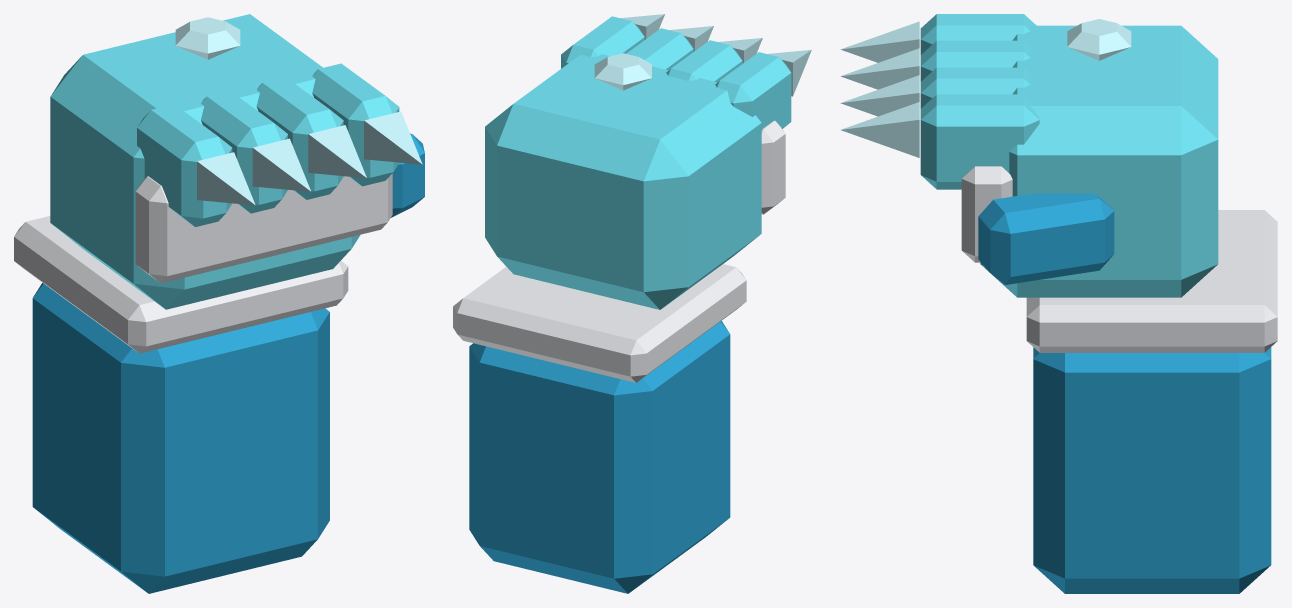
File: DiamondGauntlet.fbx
The picture shows the model from 3 angles, left to right: view 1: azimuth 30°, elevation 25°; view 2: azimuth 150°, elevation 25°; view 3: azimuth 270°, elevation 25°; orthographic projection. The views are drawn at different scales.
Visible parts, largest first — view 1: DiamondGauntlet; view 2: DiamondGauntlet; view 3: DiamondGauntlet.
Boxes of the visible parts, left/top/right/bottom form: DiamondGauntlet: left=14, top=14, right=424, bottom=593; DiamondGauntlet: left=453, top=14, right=811, bottom=593; DiamondGauntlet: left=840, top=14, right=1277, bottom=593.
Bounding box in the file's own units: 1.26 × 2.21 × 1.65.
Materials: 1 (1 with a texture image).
